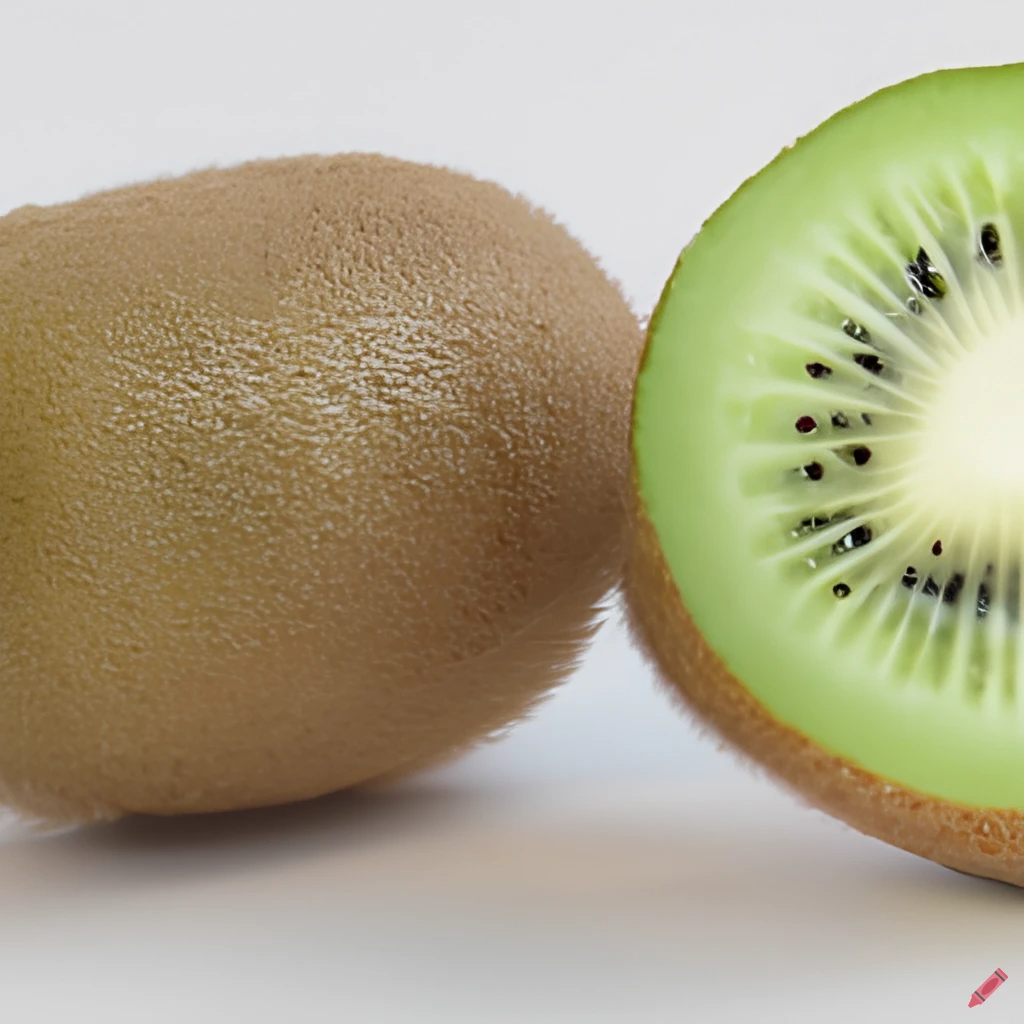Kiwi: (0, 146, 716, 870)
